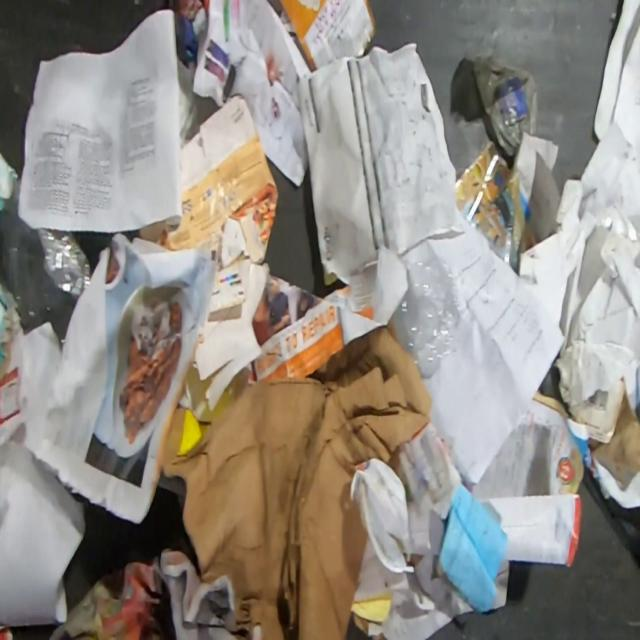cardboard: (157, 324, 433, 640), (517, 176, 640, 412), (137, 91, 280, 269), (588, 389, 640, 489)
rigid_plastic: (176, 217, 272, 423), (0, 169, 92, 346)
soft_plastic: (387, 255, 462, 381), (471, 52, 540, 158)
